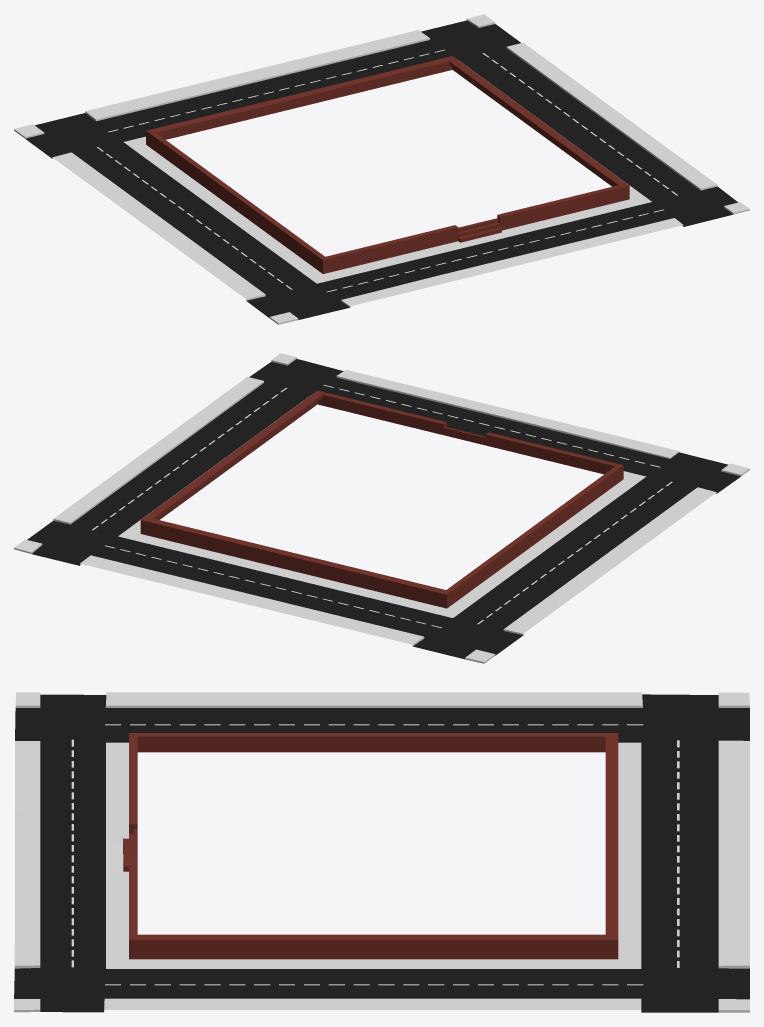
The model's file is OuterMapSepearated v2.1.fbx.
The picture shows the model from 3 angles, top to bottom: view 1: azimuth 30°, elevation 25°; view 2: azimuth 150°, elevation 25°; view 3: azimuth 270°, elevation 25°; orthographic projection. The views are drawn at different scales.
Visible parts, largest first — view 1: FinalOutSide; view 2: FinalOutSide; view 3: FinalOutSide.
Part boxes in pixels (box(x1,y1,x2,y2)): FinalOutSide: box(14, 14, 749, 324); FinalOutSide: box(14, 353, 749, 663); FinalOutSide: box(14, 692, 749, 1012).
Size of the model in its own units: 29351 by 864 by 28716.
